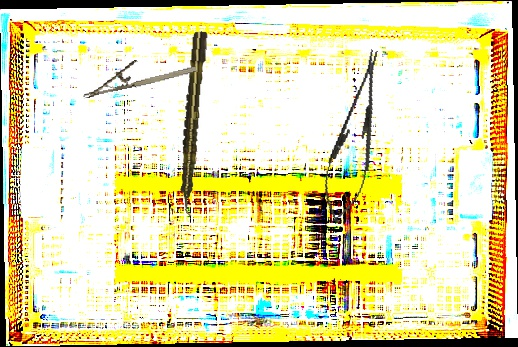Handpiece: (175, 30, 210, 217)
Needle Holder: (314, 45, 397, 228), (77, 48, 198, 99)
